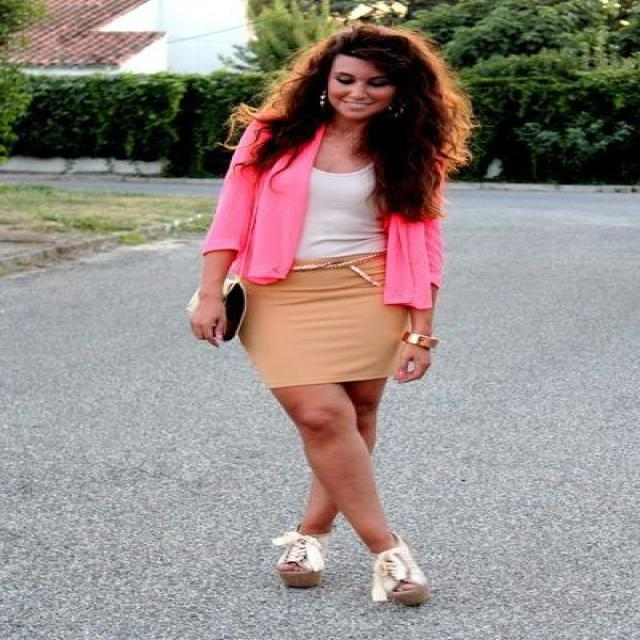jacket: (203, 148, 440, 308)
shirt: (298, 166, 386, 260)
shoe: (270, 525, 429, 612)
skirt: (249, 250, 402, 387)
